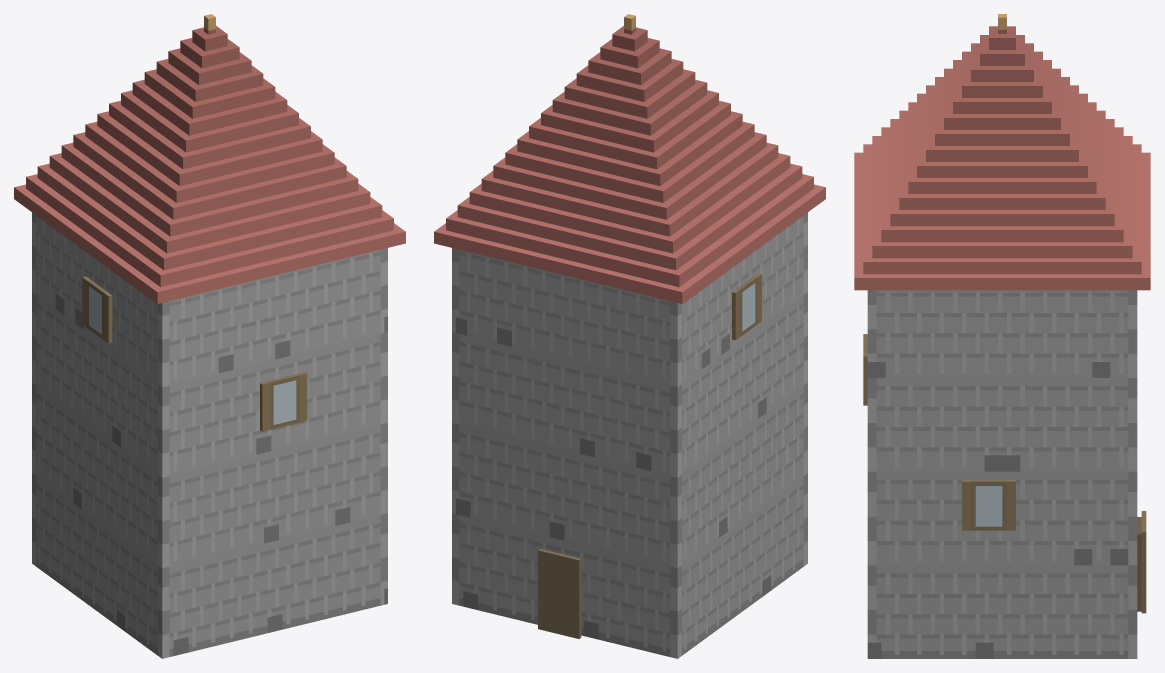
File: faro_03.glb
The picture shows the model from 3 angles, left to right: view 1: azimuth 30°, elevation 25°; view 2: azimuth 150°, elevation 25°; view 3: azimuth 270°, elevation 25°; orthographic projection. The views are drawn at different scales.
Parts seen in each view (by area): view 1: faro_03; view 2: faro_03; view 3: faro_03.
Boxes of the visible parts, x1,y1,x2,y2 form: faro_03: (14, 14, 405, 658); faro_03: (434, 14, 825, 658); faro_03: (854, 14, 1150, 658).
Size of the model in its own units: 6.6 by 14.4 by 6.6.
